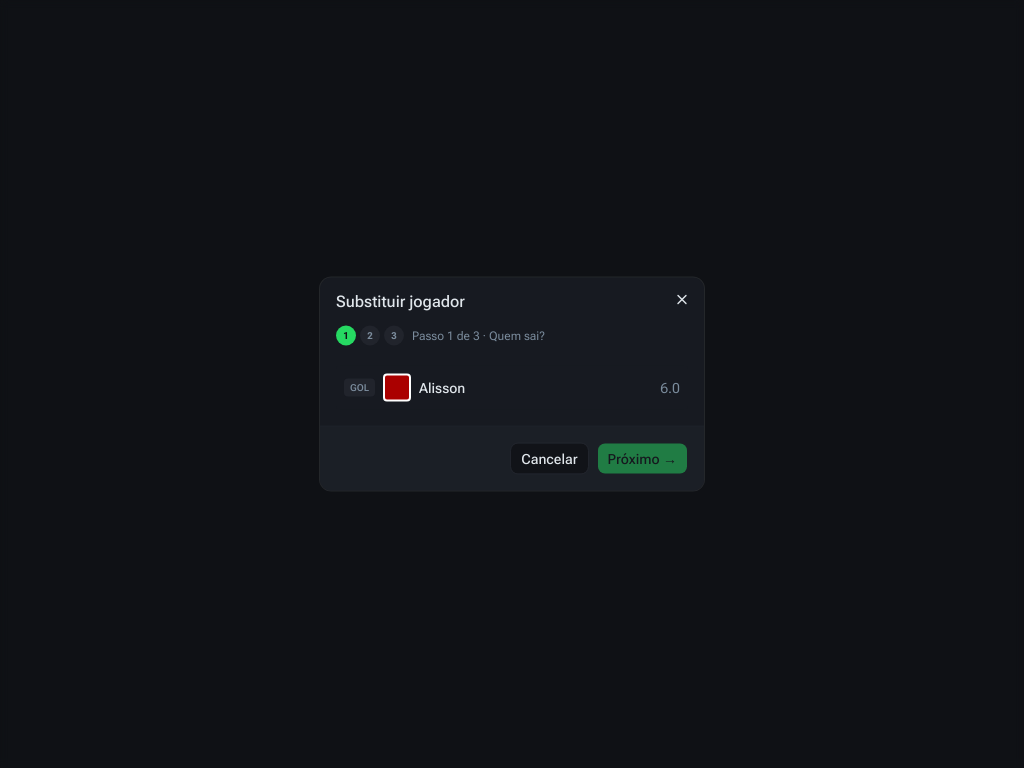
Scenario: SubstitutionModal › mostra empty-state quando não há candidato para a posição de quem sai
Click the text "Alisson".
click(442, 388)  # box [419,380,465,396]
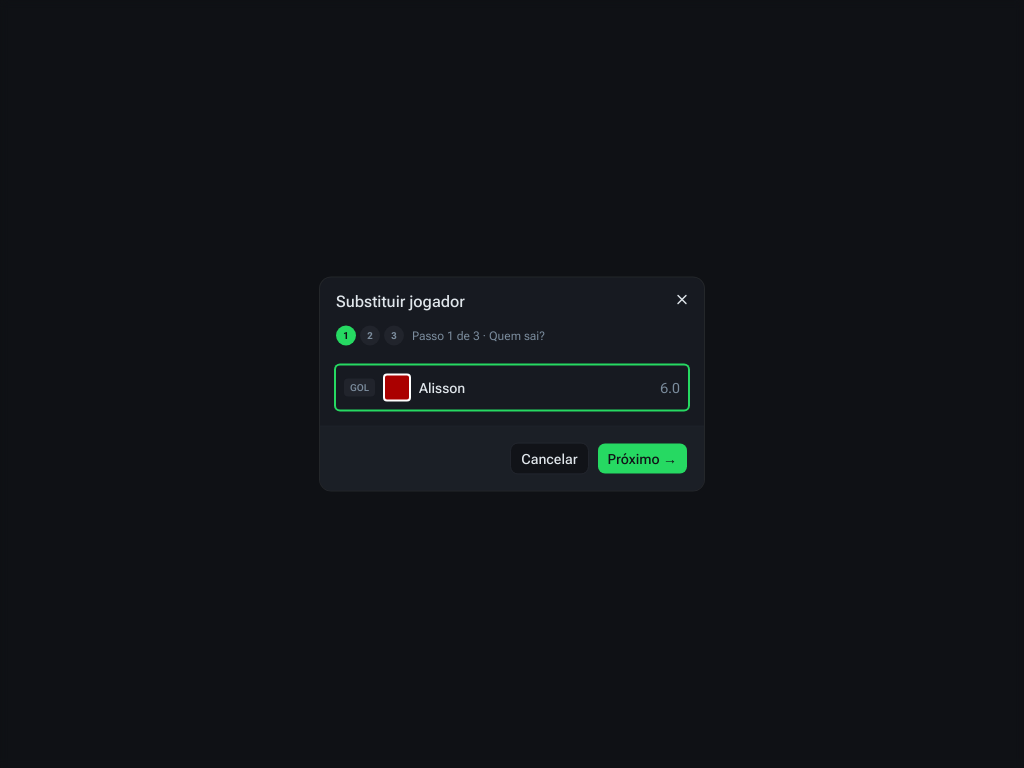
Click the button "Próximo →".
click(642, 458)  # box [597,442,688,474]
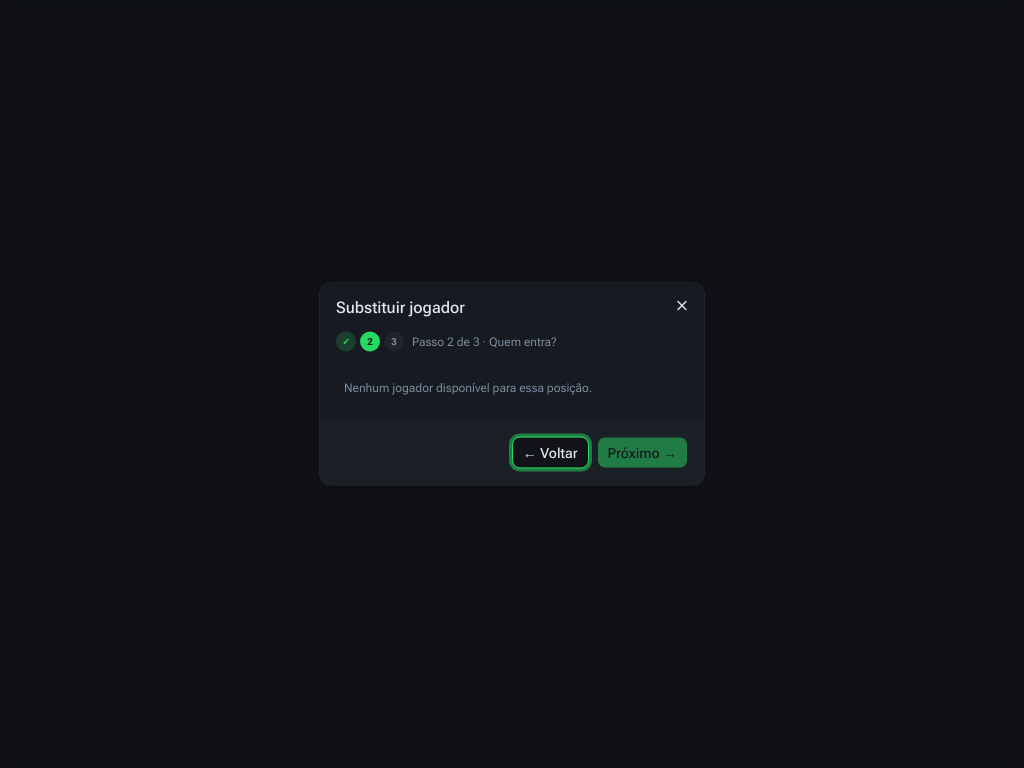
Result: the text "Nenhum jogador disponível para essa posição." is shown at [344,380,592,394]
Result: the button "Próximo →" is disabled at [597,436,688,468]
